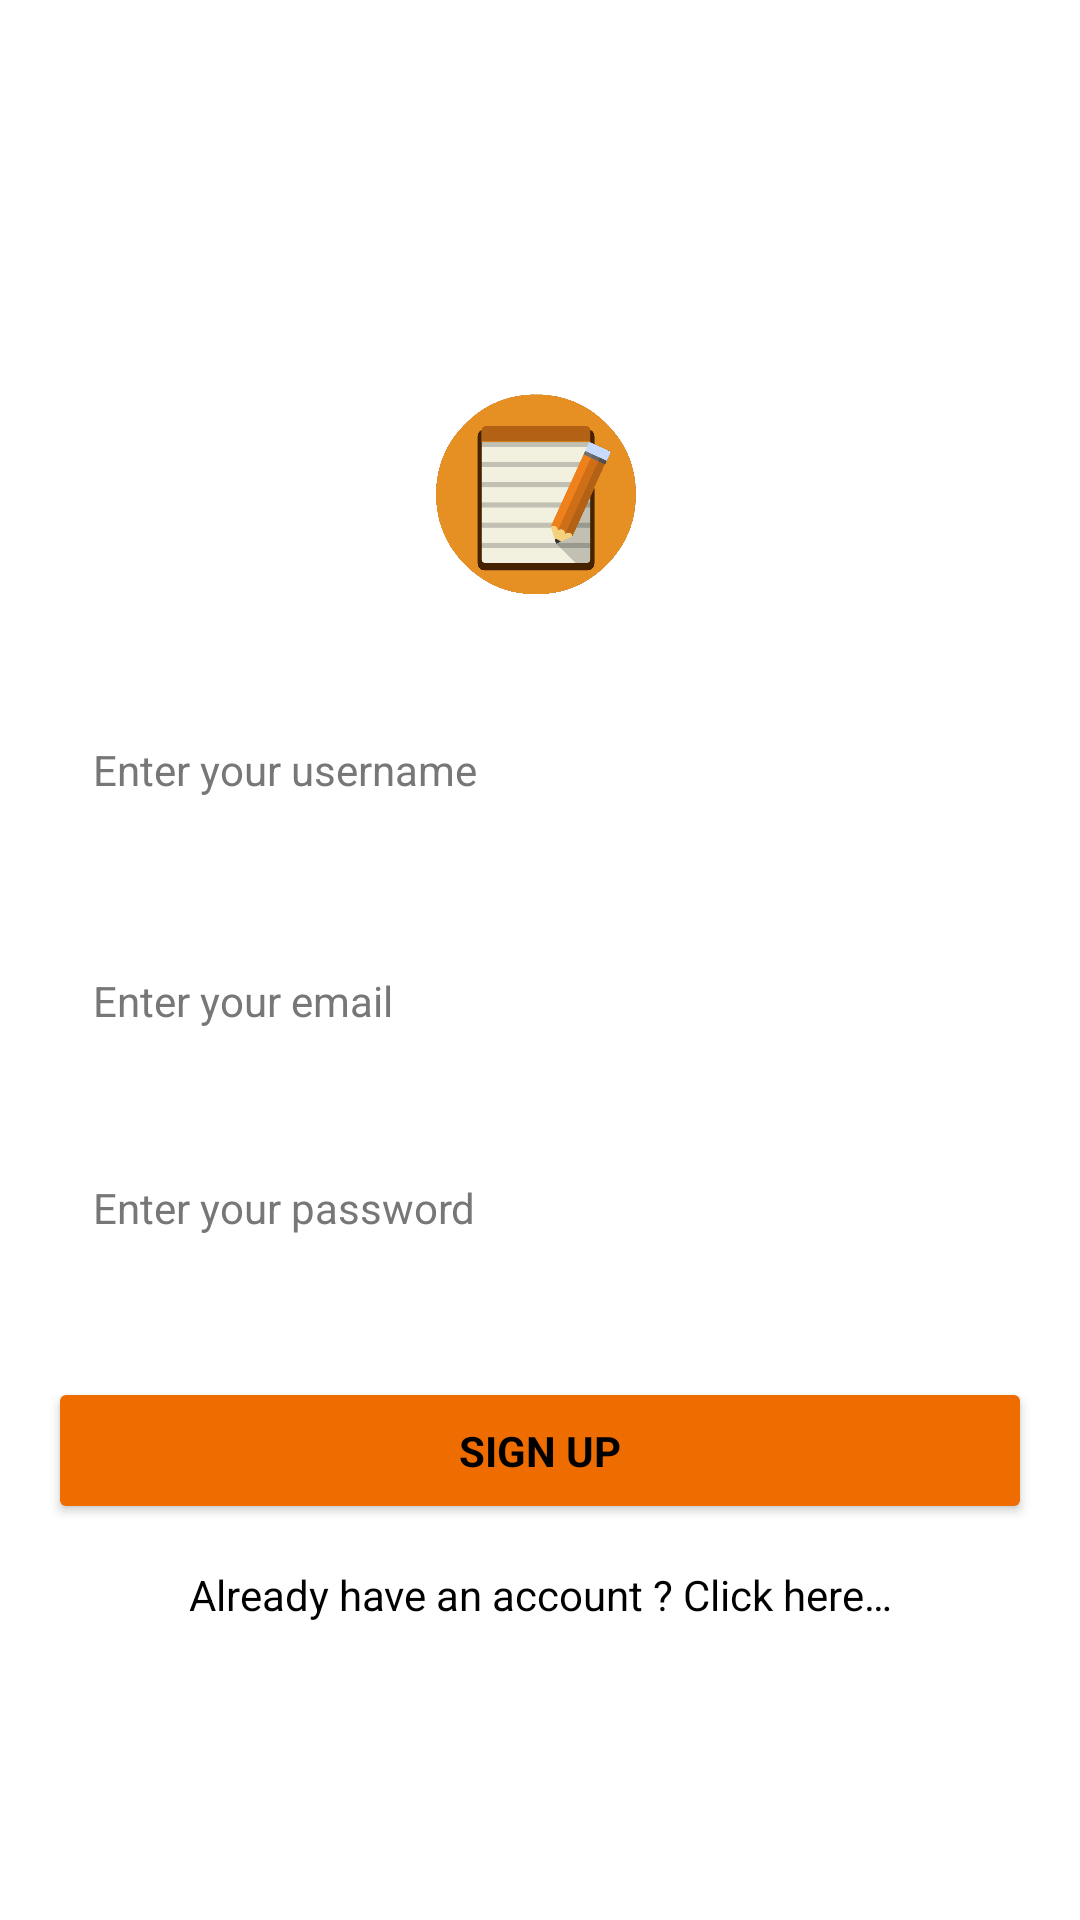

Locate icon controls on the screen. Image size 1080w x 1920h, boxes as (x1,y1,x2,y2).
todo: (436,394,636,594)
